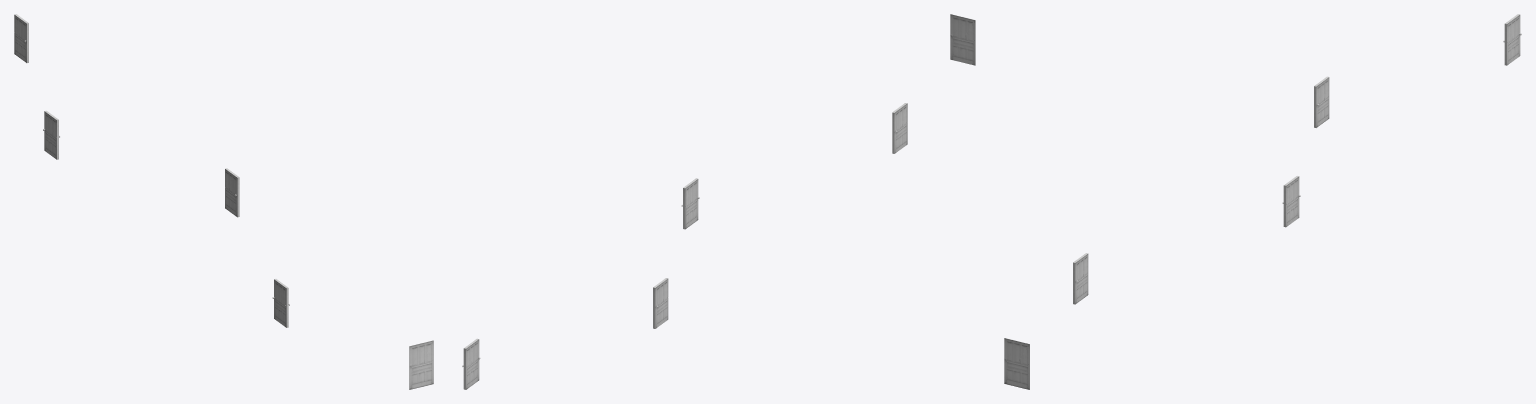
Rendered from DOOR.fbx.
The picture shows the model from 3 angles, left to right: view 1: azimuth 30°, elevation 25°; view 2: azimuth 150°, elevation 25°; view 3: azimuth 330°, elevation 25°; orthographic projection. The views are drawn at different scales.
Visible parts, largest first — view 1: polySurface23.002, polySurface23.005, polySurface23.003, polySurface23.004, polySurface23.006; view 2: polySurface23.002, polySurface23.006, polySurface23.004, polySurface23.003, polySurface23.005; view 3: polySurface23.002, polySurface23.004, polySurface23.006, polySurface23.005, polySurface23.003.
Boxes of the visible parts, <box> form: polySurface23.002: <box>409,340,433,389</box>; polySurface23.005: <box>272,279,289,327</box>; polySurface23.003: <box>43,110,60,159</box>; polySurface23.004: <box>225,168,239,217</box>; polySurface23.006: <box>14,14,28,62</box>; polySurface23.002: <box>950,14,975,65</box>; polySurface23.006: <box>462,338,480,389</box>; polySurface23.004: <box>681,178,699,229</box>; polySurface23.003: <box>653,278,668,328</box>; polySurface23.005: <box>892,103,907,153</box>; polySurface23.002: <box>1004,338,1029,389</box>; polySurface23.004: <box>1282,176,1300,227</box>; polySurface23.006: <box>1503,14,1521,65</box>; polySurface23.005: <box>1073,253,1088,304</box>; polySurface23.003: <box>1314,76,1329,127</box>.
Size of the model in its own units: 549 by 279 by 5141.
Materials: 5 (5 with a texture image).
